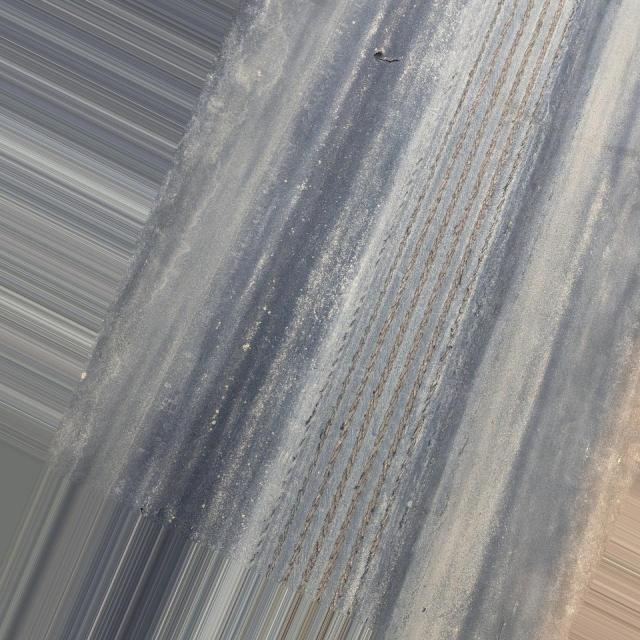impact damage: (217, 0, 605, 636)
